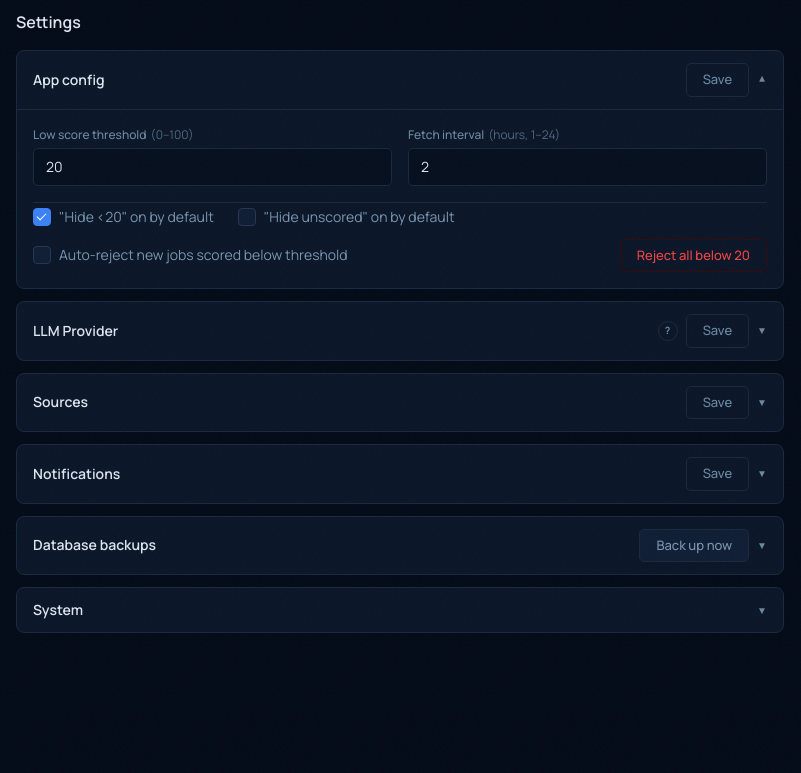
Test case: SettingsView › shows Ollama Connected when ollama_available is true
Click the text "System". click: {"x": 58, "y": 610}
box: [33,600,83,620]
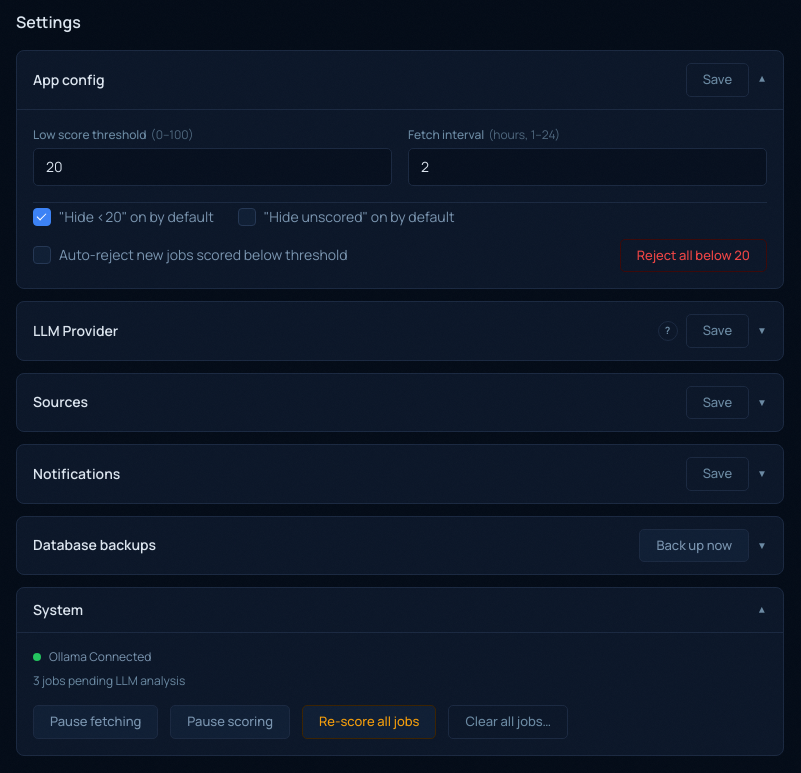
Result: the text "Ollama Connected" is shown at [49,649,152,665]
